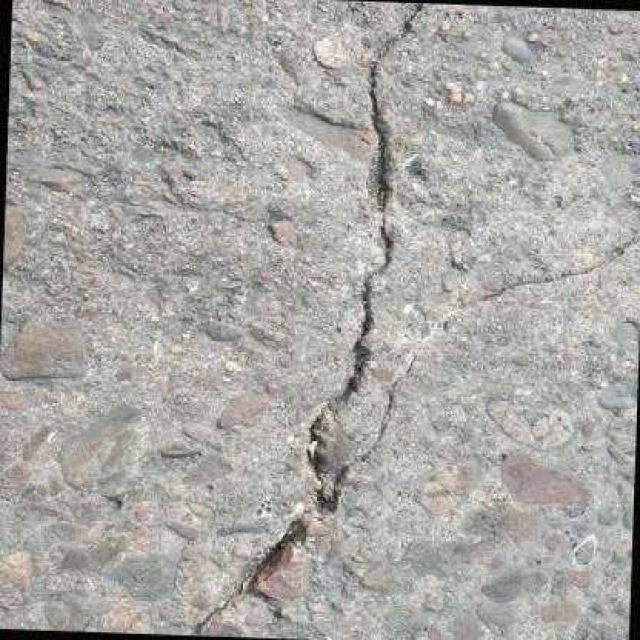D00: (174, 3, 431, 636), (330, 221, 640, 488)
